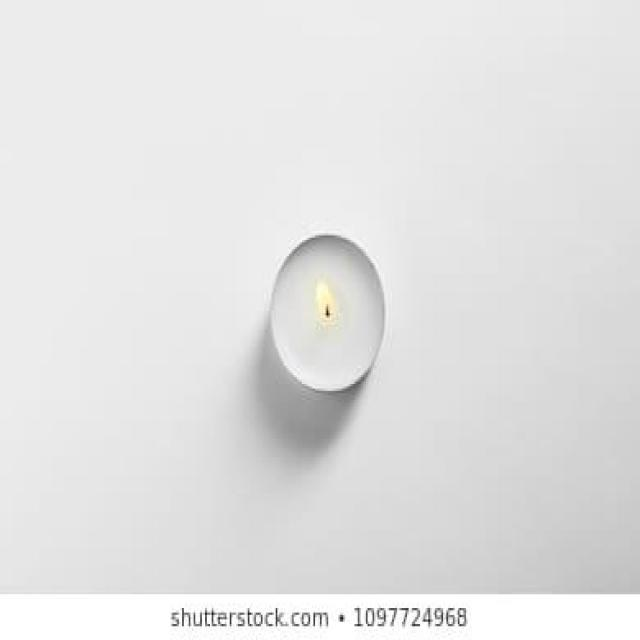Fire: (316, 278, 332, 316)
